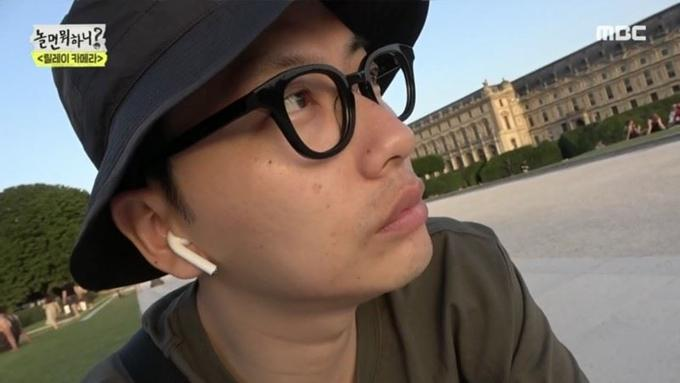earphone: (157, 220, 219, 275)
